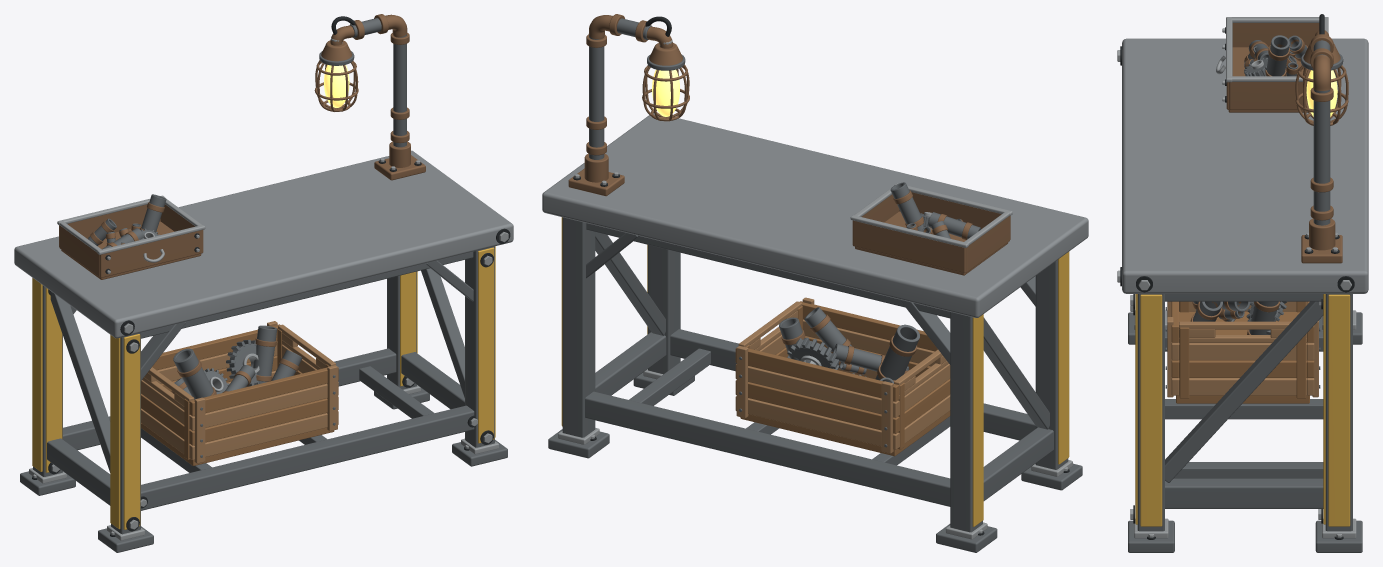
The model's file is Workbench.fbx.
3 views of the same model, side by side, from view 1: azimuth 30°, elevation 25°; view 2: azimuth 150°, elevation 25°; view 3: azimuth 270°, elevation 25° (orthographic). The views are drawn at different scales.
Visible parts, largest first — view 1: Thick solid worktop, Lower long stretcher, Ochre front leg face, Ochre front leg face.002, Side diagonal brace, Ochre front leg face.001, Square steel leg.002, Tray long wall, Crate horizontal long plank.003, Lower long stretcher.001, Under-top long apron, Ochre outer leg face (+35 smaller); view 2: Thick solid worktop, Lower long stretcher.001, Square steel leg.003, Square steel leg.001, Square steel leg, Lower long stretcher, Tray long wall.001, Square steel leg.002, Crate horizontal long plank.007, Under-top long apron.001, Ochre outer leg face.001, Ochre outer leg face (+33 smaller); view 3: Thick solid worktop, Ochre outer leg face.002, Ochre outer leg face.003, Lower side stretcher.001, Side diagonal brace.001, Lower shelf cross support.002, Lower shelf cross support.001, Tray short wall.001, Vertical lamp pipe, Square steel leg.002, Square steel leg.003, Tray short wall (+29 smaller).
Part boxes in pixels (<box>): Thick solid worktop: <box>14,150,513,338</box>; Lower long stretcher: <box>141,405,474,510</box>; Ochre front leg face: <box>123,334,140,529</box>; Ochre front leg face.002: <box>478,247,494,443</box>; Side diagonal brace: <box>50,292,110,472</box>; Ochre front leg face.001: <box>45,287,62,472</box>; Square steel leg.002: <box>465,246,494,447</box>; Tray long wall: <box>99,230,203,277</box>; Crate horizontal long plank.003: <box>189,367,338,416</box>; Lower long stretcher.001: <box>63,348,396,450</box>; Under-top long apron: <box>141,251,473,338</box>; Ochre outer leg face: <box>110,335,120,529</box>; Thick solid worktop: <box>542,113,1088,317</box>; Lower long stretcher.001: <box>585,391,950,506</box>; Square steel leg.003: <box>562,217,595,437</box>; Square steel leg.001: <box>950,312,982,532</box>; Square steel leg: <box>1035,260,1068,469</box>; Lower long stretcher: <box>670,329,1035,440</box>; Tray long wall.001: <box>852,220,966,273</box>; Square steel leg.002: <box>648,245,680,374</box>; Crate horizontal long plank.007: <box>735,348,898,401</box>; Under-top long apron.001: <box>586,223,950,318</box>; Ochre outer leg face.001: <box>972,314,983,526</box>; Ochre outer leg face: <box>1058,251,1069,464</box>; Thick solid worktop: <box>1122,38,1368,293</box>; Ochre outer leg face.002: <box>1140,294,1162,526</box>; Ochre outer leg face.003: <box>1328,294,1350,526</box>; Lower side stretcher.001: <box>1165,478,1323,508</box>; Side diagonal brace.001: <box>1165,301,1323,482</box>; Lower shelf cross support.002: <box>1174,462,1323,478</box>; Lower shelf cross support.001: <box>1165,399,1323,419</box>; Tray short wall.001: <box>1229,82,1308,110</box>; Vertical lamp pipe: <box>1313,89,1330,225</box>; Square steel leg.002: <box>1137,294,1164,531</box>; Square steel leg.003: <box>1325,294,1352,531</box>; Tray short wall: <box>1232,23,1319,47</box>.
Size of the model in its own units: 489 by 469 by 219.
